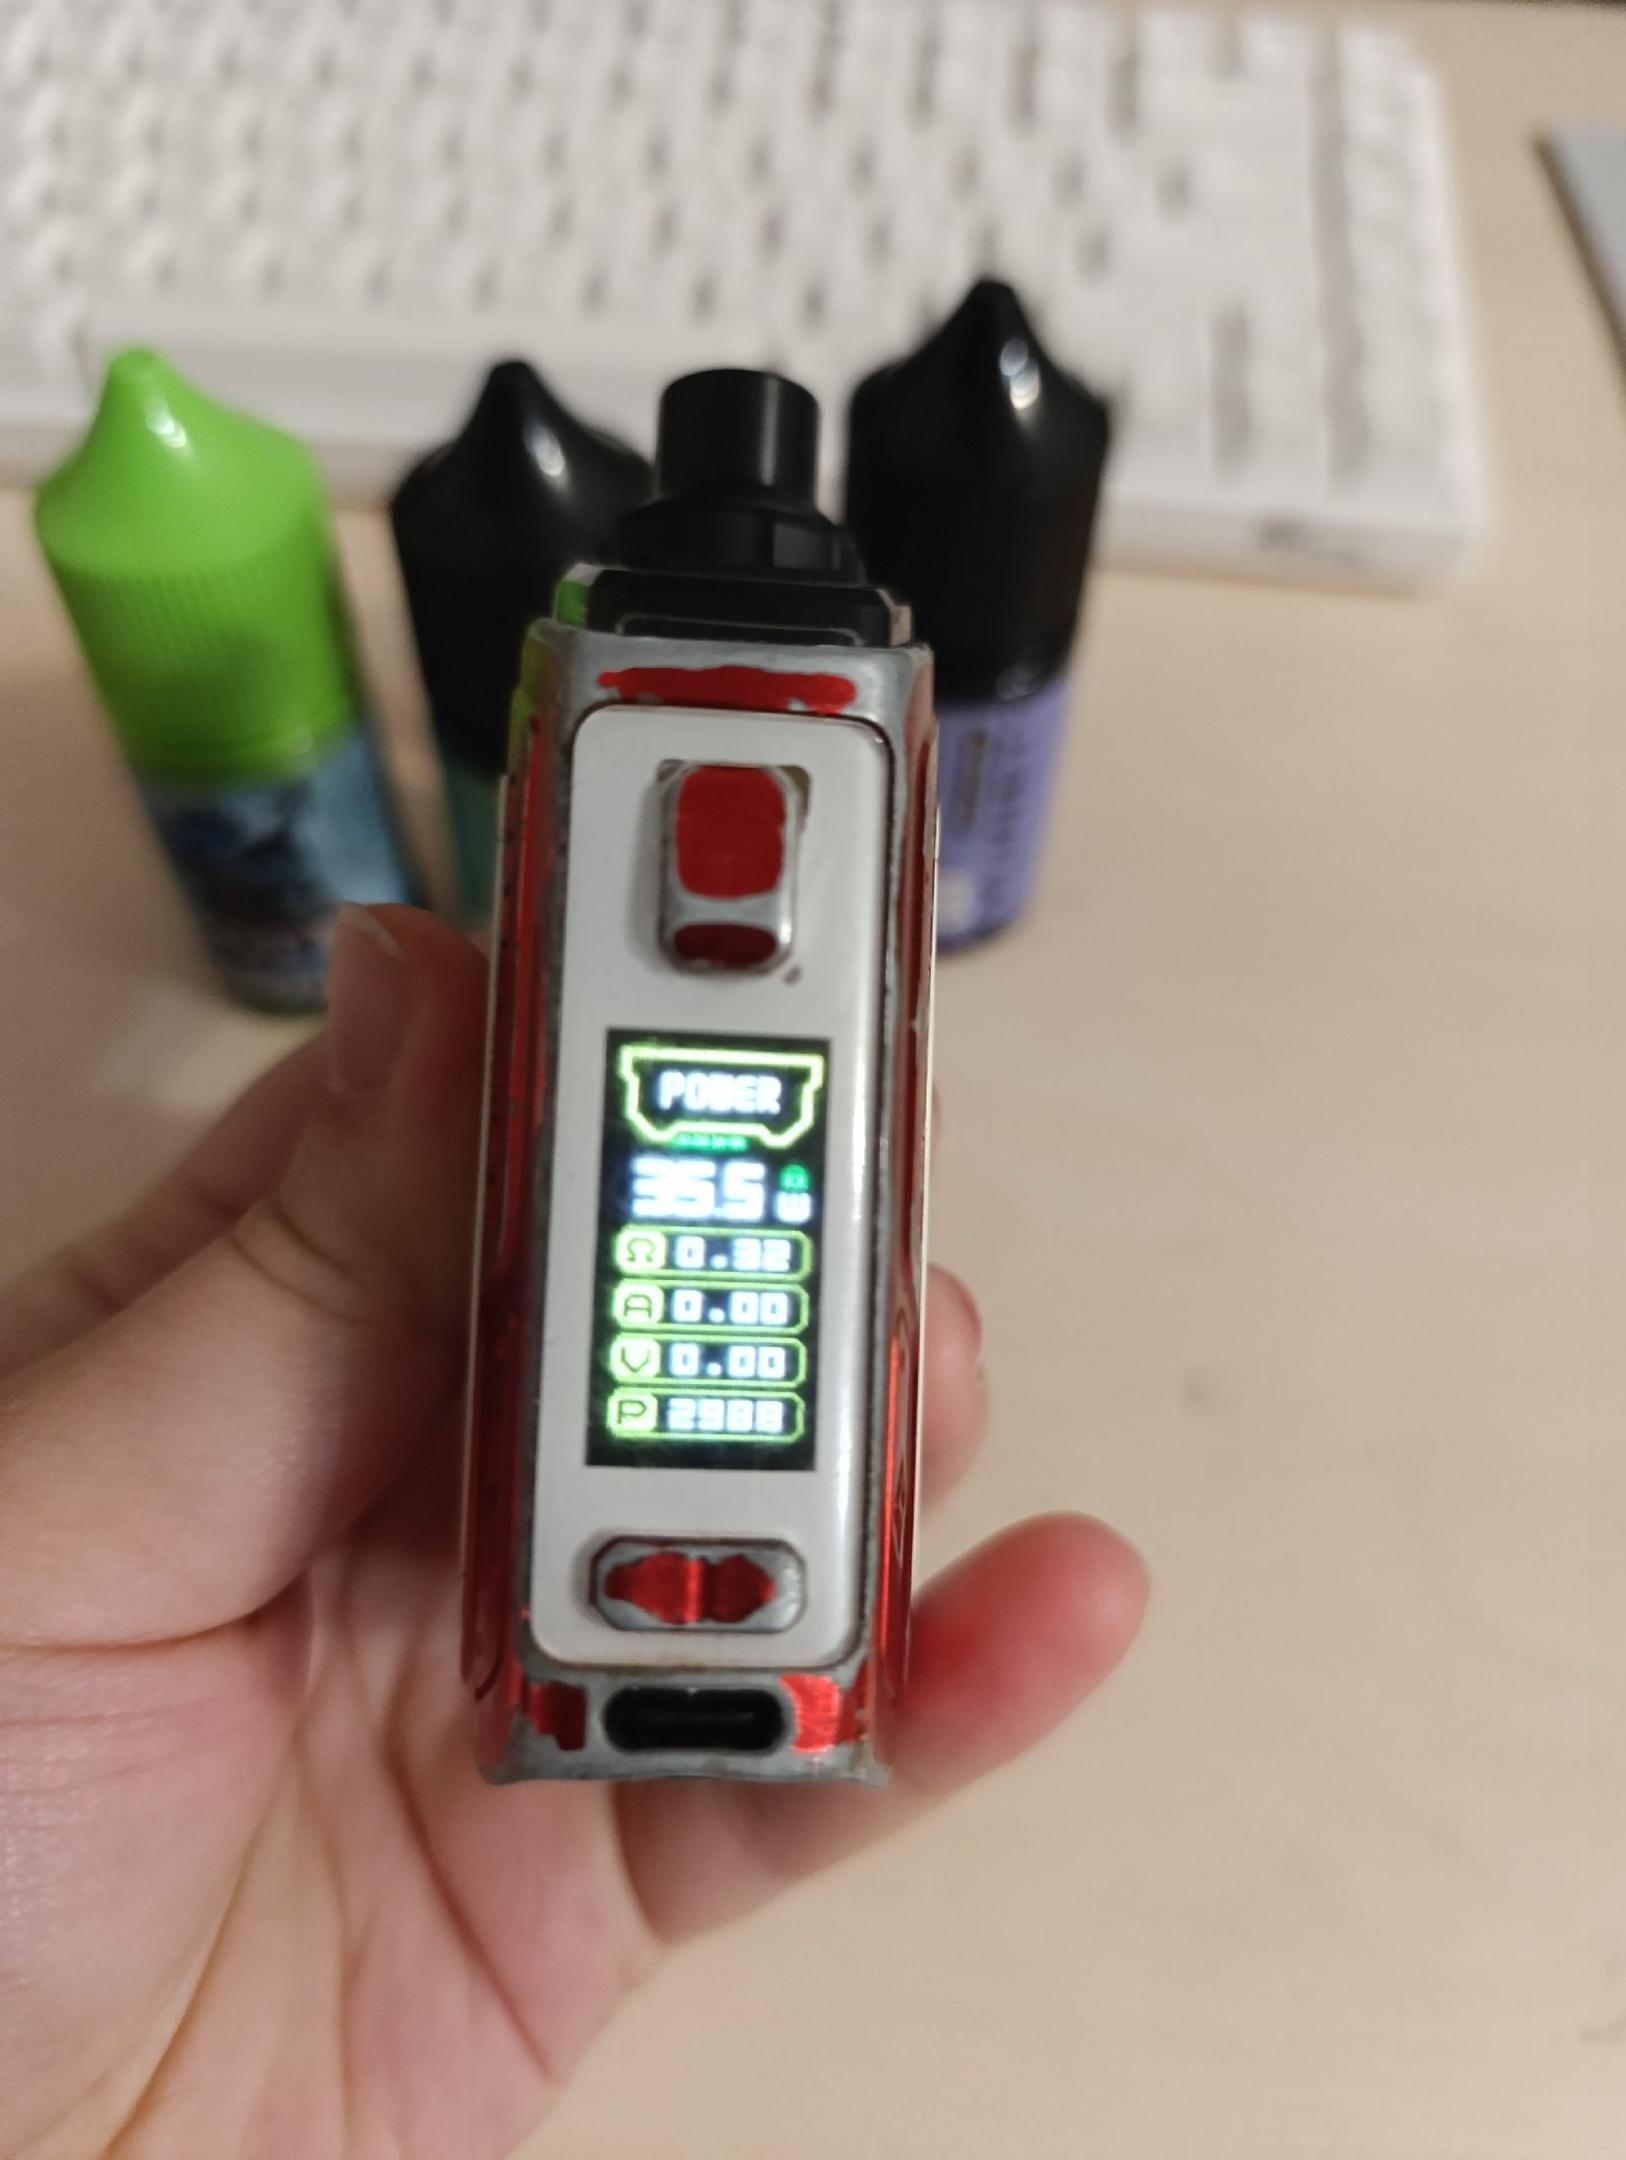Vape: (463, 369, 938, 1783)
